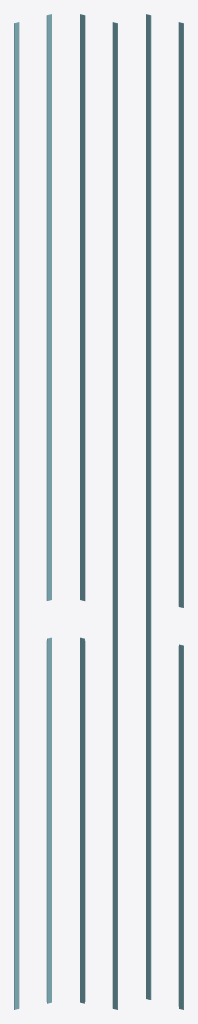
The model's file is StoepMainStreet.obj.
3 renders of one model, left to right at view 1: azimuth 30°, elevation 25°; view 2: azimuth 150°, elevation 25°; view 3: azimuth 330°, elevation 25°, orthographic.
Visible parts, largest first — view 1: StoepRechts2eDeel; view 2: StoepRechts2eDeel; view 3: StoepRechts2eDeel.
Part boxes in pixels (box(x1,y1,x2,y2)): StoepRechts2eDeel: box(14, 14, 51, 1009); StoepRechts2eDeel: box(80, 14, 117, 1009); StoepRechts2eDeel: box(146, 14, 183, 1009).
Size of the model in its own units: 630 by 15777 by 7.88.
